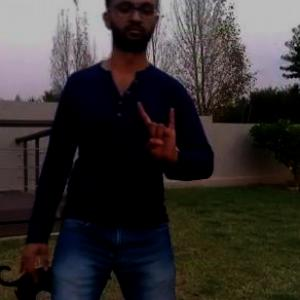takeoff-hand: (134, 97, 183, 174)
